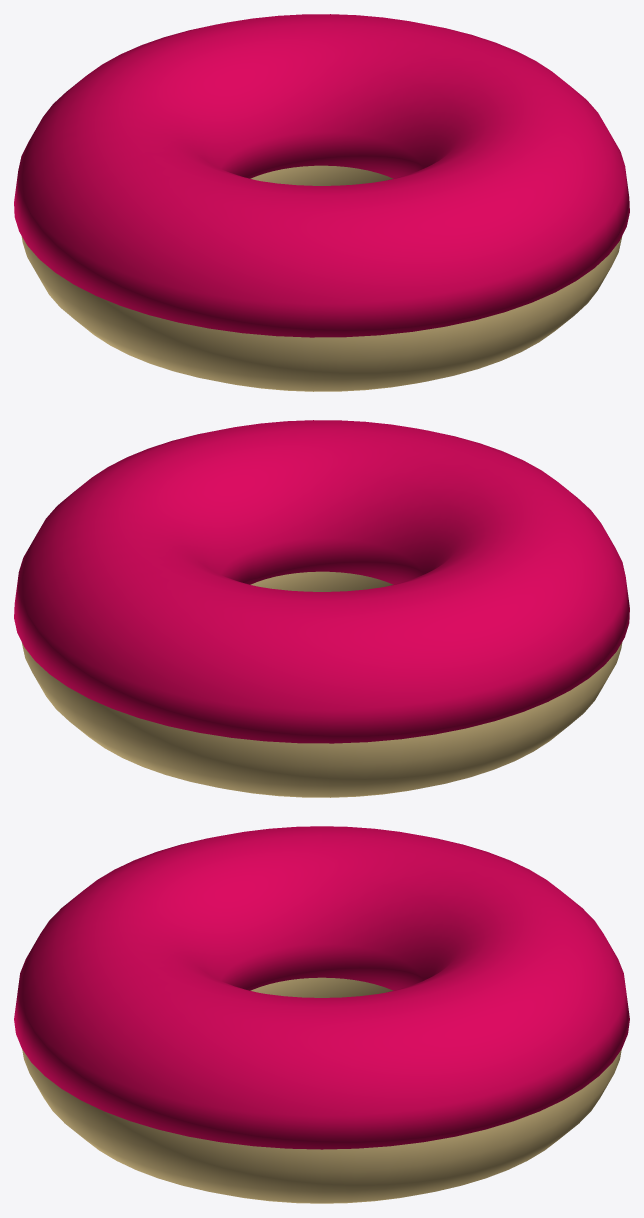
3 renders of one model, top to bottom at view 1: azimuth 30°, elevation 25°; view 2: azimuth 150°, elevation 25°; view 3: azimuth 270°, elevation 25°, orthographic.
Parts seen in each view (by area): view 1: Torus.002, Torus.001; view 2: Torus.002, Torus.001; view 3: Torus.002, Torus.001.
Part boxes in pixels (left/top/right/bottom): Torus.002: left=14, top=14, right=629, bottom=337; Torus.001: left=21, top=165, right=622, bottom=391; Torus.002: left=14, top=420, right=629, bottom=743; Torus.001: left=21, top=571, right=622, bottom=797; Torus.002: left=14, top=826, right=629, bottom=1149; Torus.001: left=22, top=977, right=621, bottom=1203.
Size of the model in its own units: 3.03 by 1.02 by 3.03.
